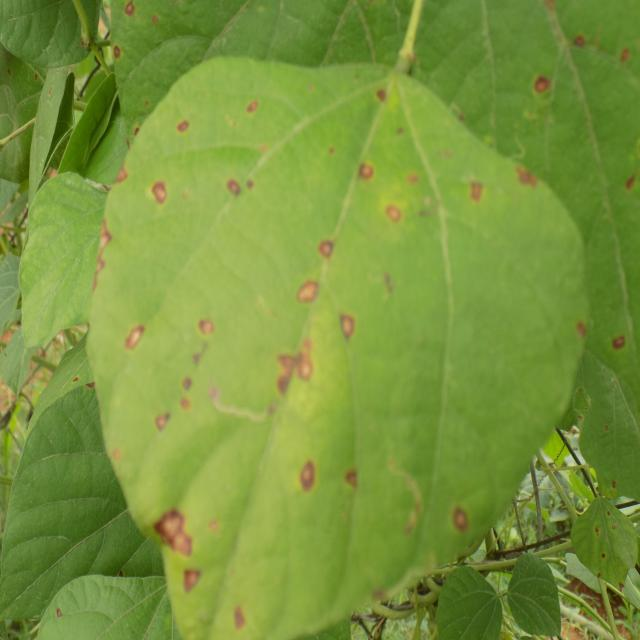Dolicos bean_cercospora leaf spot: (90, 53, 592, 640), (566, 492, 640, 595)
Dolicos bean_healthy: (0, 374, 188, 640), (20, 161, 140, 356), (500, 548, 562, 640), (434, 565, 509, 640)
